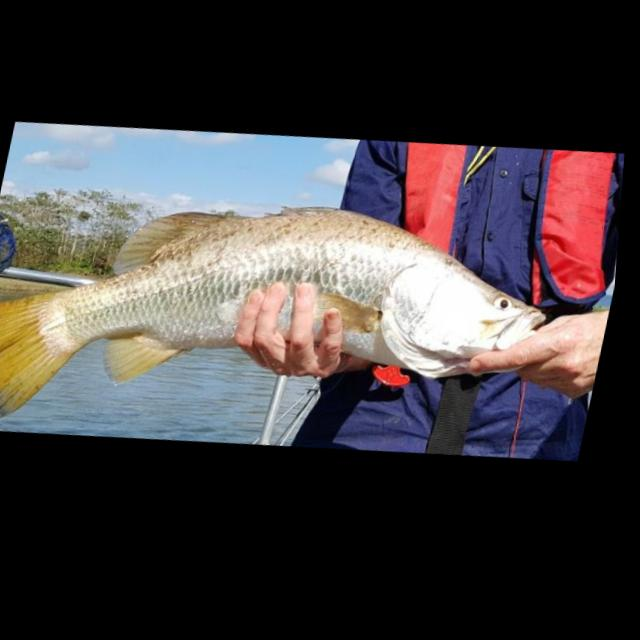Seabass: (0, 136, 582, 494)
